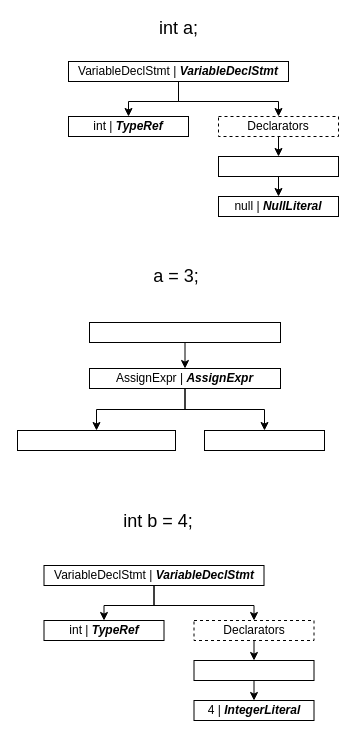
This 356x738 diagram has some shape labels left out. Each missing label, with the box of its shape:
3 | IntegerLiteral: (204, 430, 324, 450)
a | Declarator: (218, 156, 338, 176)
a | UnknownRefernce: (16, 430, 176, 450)
b | Declarator: (193, 660, 314, 680)
ExprStmt | ExprStmt: (88, 322, 280, 342)
